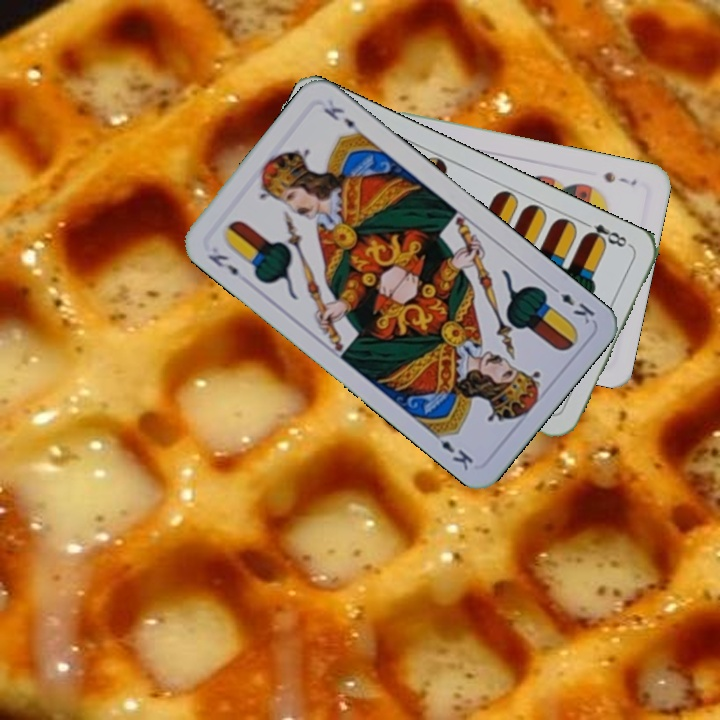E8: (578, 217, 633, 250)
EK: (545, 280, 598, 327), (203, 250, 241, 279)
S7: (600, 167, 639, 188)
